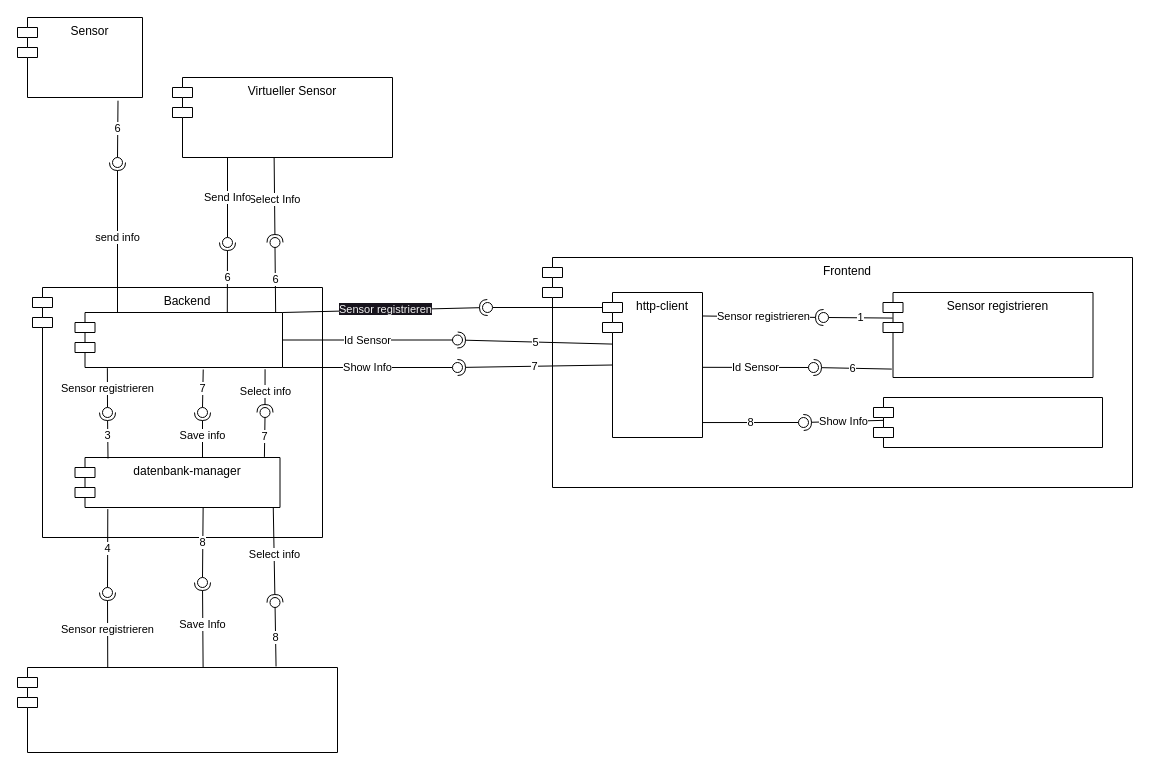
Image size: 1150x770. Some labels were removed from this diagram. Here are the shapes that lost their labels. From the top down, the centre of each, then its label:
At [178,340]: "http-server".
At [987,422]: "Dashboard".
At [177,709]: "Datenbank".
